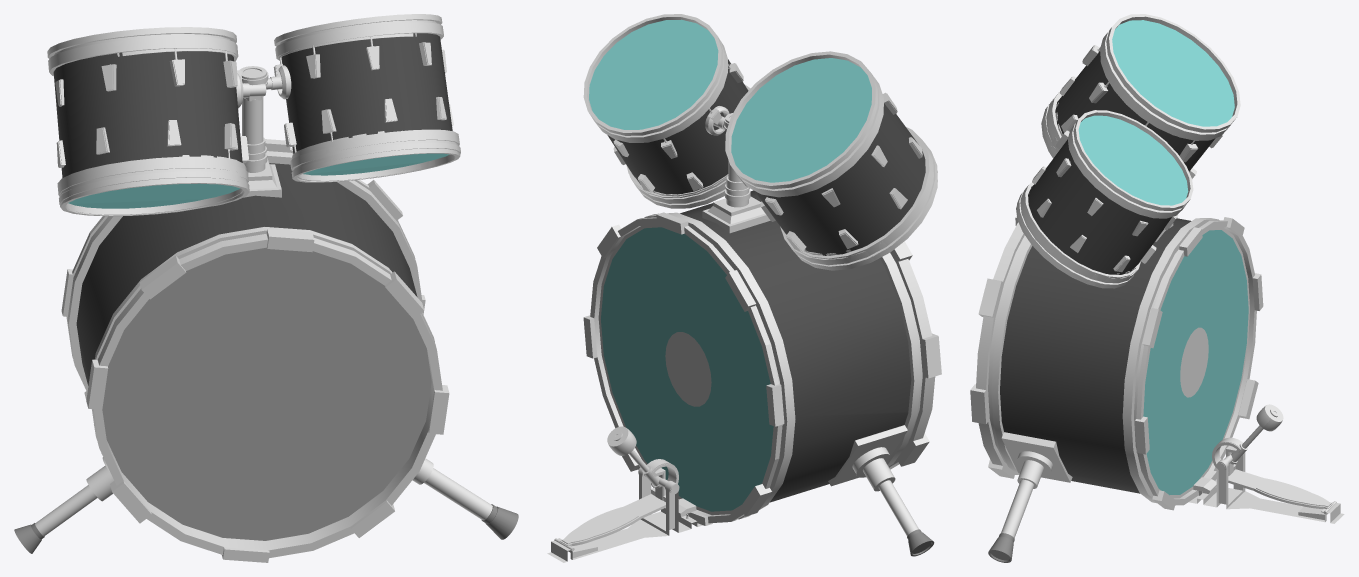
File: bass.fbx
The picture shows the model from 3 angles, left to right: view 1: azimuth 30°, elevation 25°; view 2: azimuth 150°, elevation 25°; view 3: azimuth 270°, elevation 25°; orthographic projection. The views are drawn at different scales.
Parts seen in each view (by area): view 1: Component#2_001, Component#9_007, Component#9_005, Component#7_001, Component#3_001, Component#4_001; view 2: Component#2_001, Component#9_007, Component#9_005, Component#5_001, Component#4_001, Component#7_001; view 3: Component#2_001, Component#9_005, Component#9_007, Component#5_001, Component#3_001.
Part boxes in pixels (x1,y1,x2,y2): Component#2_001: (61, 139, 449, 562); Component#9_007: (47, 27, 266, 216); Component#9_005: (266, 14, 460, 182); Component#7_001: (239, 66, 281, 197); Component#3_001: (412, 458, 518, 539); Component#4_001: (14, 457, 113, 553); Component#2_001: (583, 190, 941, 525); Component#9_007: (725, 51, 937, 270); Component#9_005: (583, 14, 750, 208); Component#5_001: (547, 426, 702, 562); Component#4_001: (852, 447, 934, 556); Component#7_001: (702, 113, 770, 233); Component#2_001: (970, 216, 1263, 510); Component#9_005: (1016, 110, 1193, 288); Component#9_007: (1041, 14, 1240, 178); Component#5_001: (1189, 404, 1344, 523); Component#3_001: (988, 451, 1052, 562).
Size of the model in its own units: 5.39 by 6.69 by 5.29.
